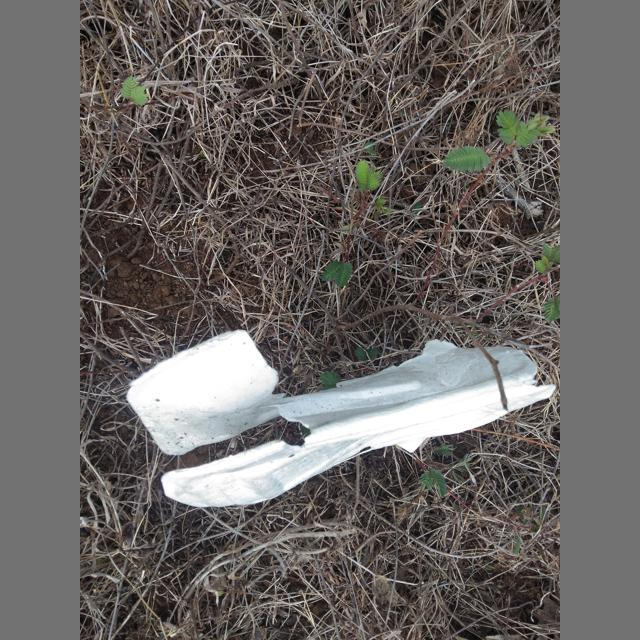litter: (126, 329, 556, 507)
